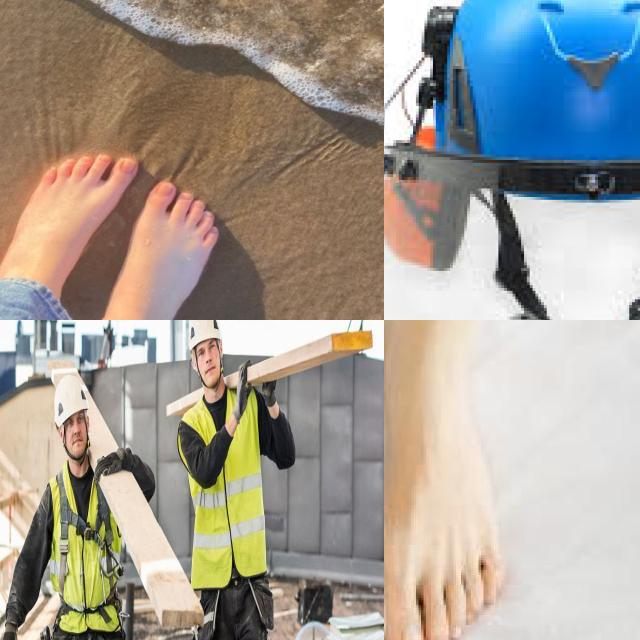Barefoots: (384, 326, 527, 640), (95, 183, 223, 320)
Ear-protection: (384, 120, 467, 276)
face_nomask: (56, 410, 92, 460), (188, 337, 226, 382)
hand_glove: (87, 450, 133, 484), (232, 359, 250, 422), (264, 370, 278, 408), (0, 626, 26, 640)
head_helmet: (427, 0, 640, 202), (53, 373, 89, 427), (187, 320, 222, 348)
person: (3, 356, 159, 640), (170, 320, 283, 640)
vest: (178, 373, 270, 576), (46, 460, 125, 636)
